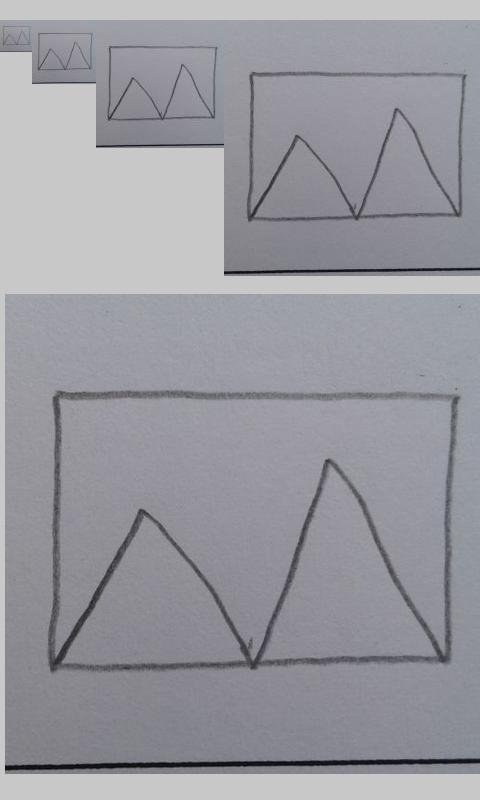image_view: (48, 389, 459, 672), (247, 69, 468, 222), (107, 46, 218, 121), (37, 32, 94, 72), (2, 25, 31, 46)
